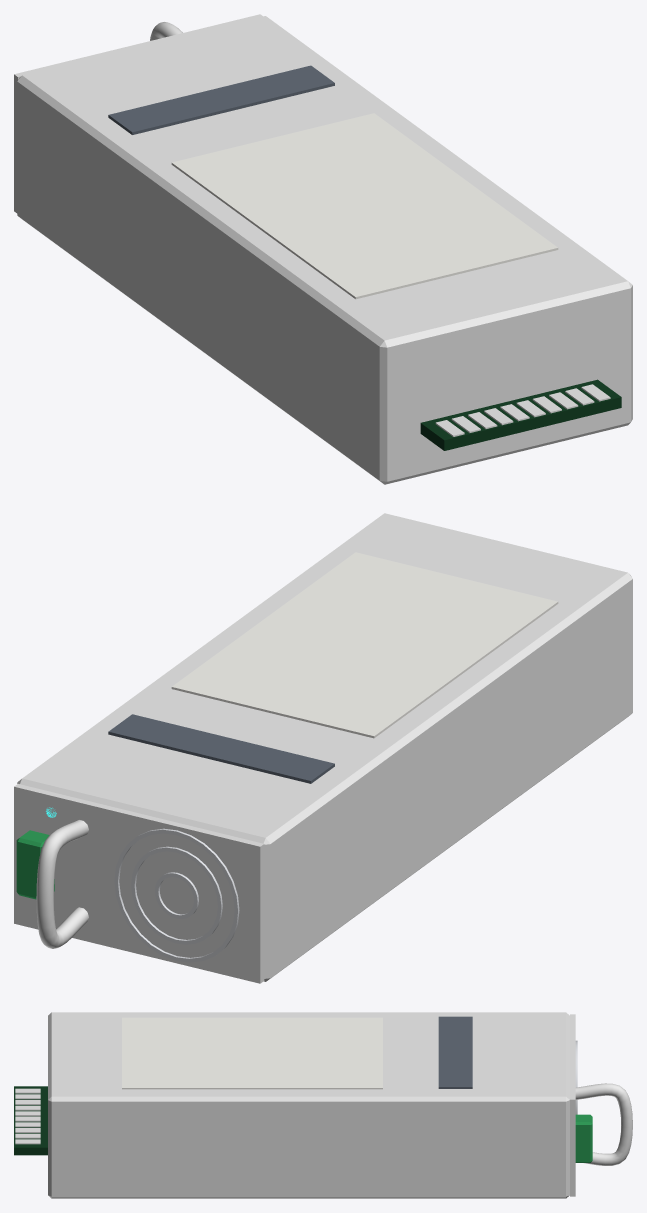
Rendered from hw_psu_1600w_tit.glb.
The picture shows the model from 3 angles, top to bottom: view 1: azimuth 30°, elevation 25°; view 2: azimuth 150°, elevation 25°; view 3: azimuth 270°, elevation 25°; orthographic projection. The views are drawn at different scales.
Parts seen in each view (by area): view 1: Body; view 2: Body; view 3: Body.
Boxes of the visible parts, x1,y1,x2,y2 form: Body: [14, 14, 632, 484]; Body: [14, 513, 632, 983]; Body: [14, 1012, 632, 1198].
Size of the model in its own units: 0.0735 by 0.041 by 0.2193.
